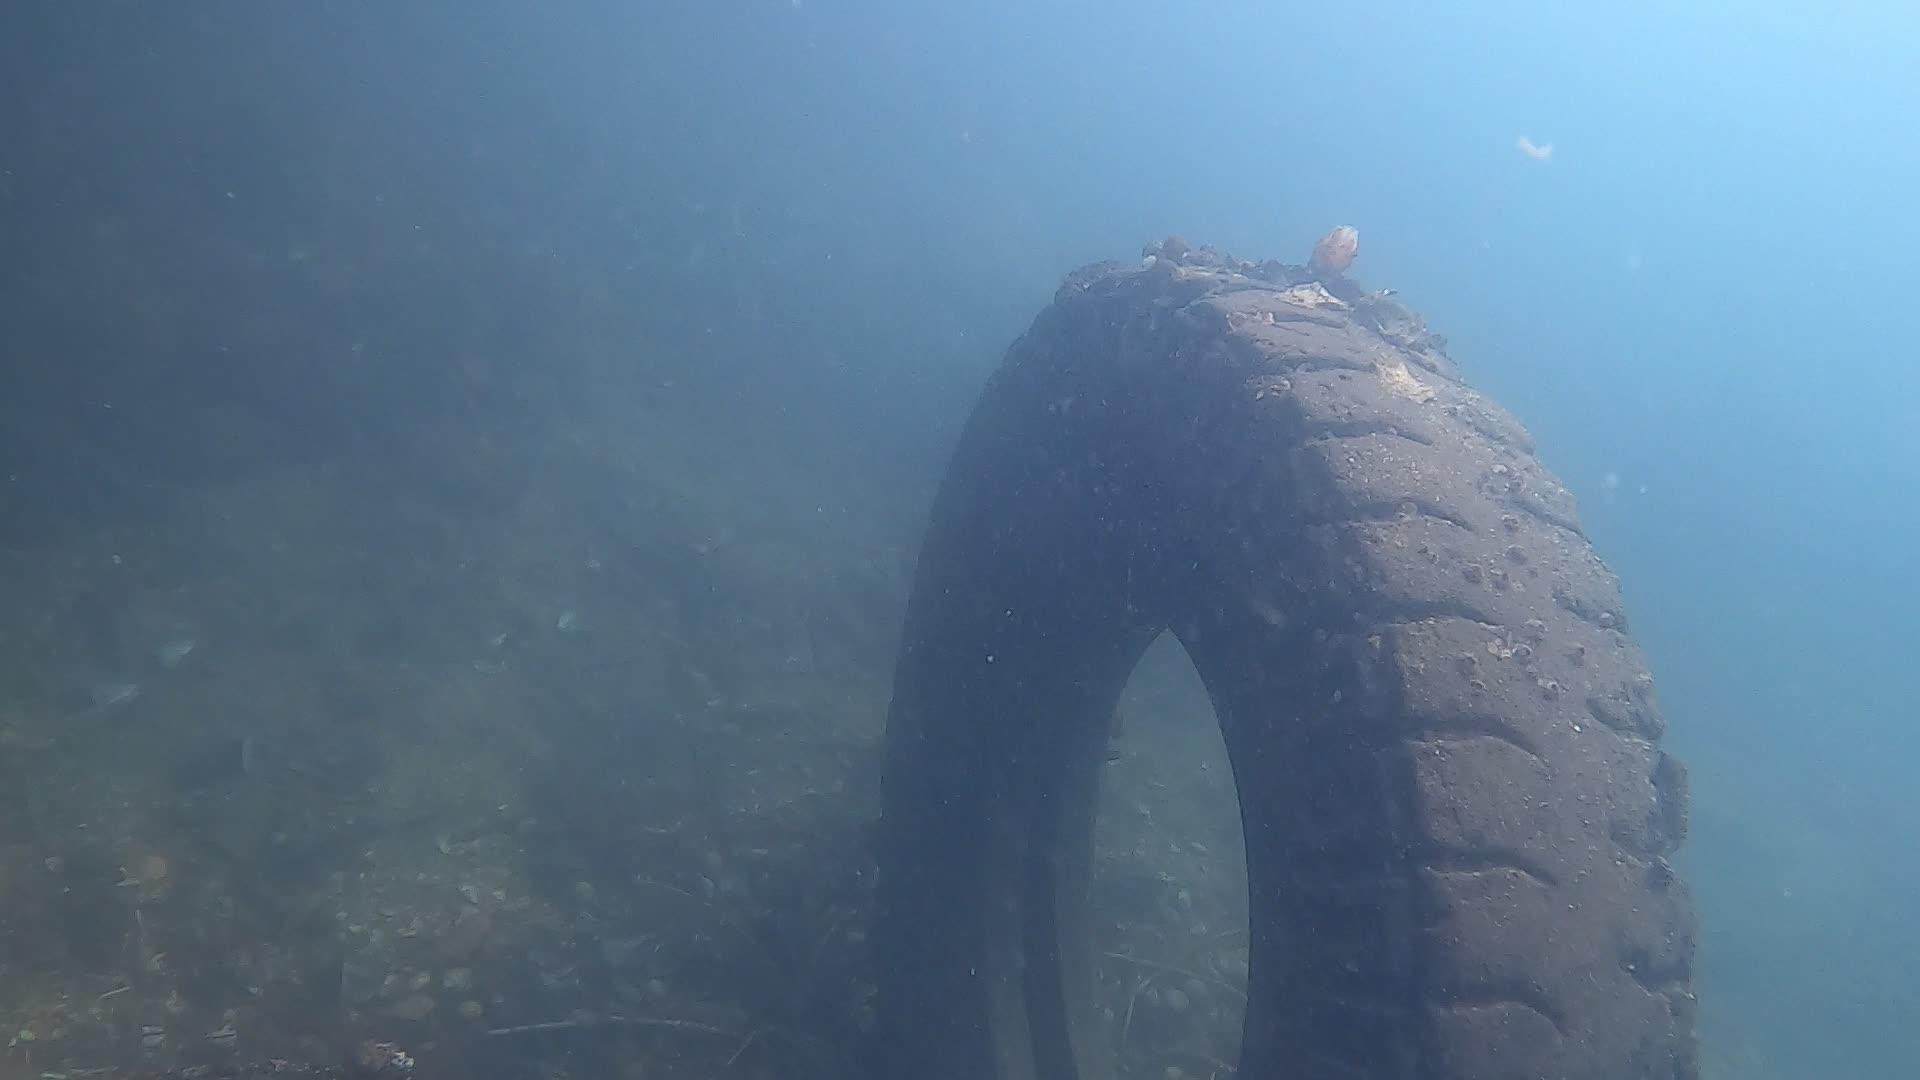tire: (874, 255, 1687, 1080)
